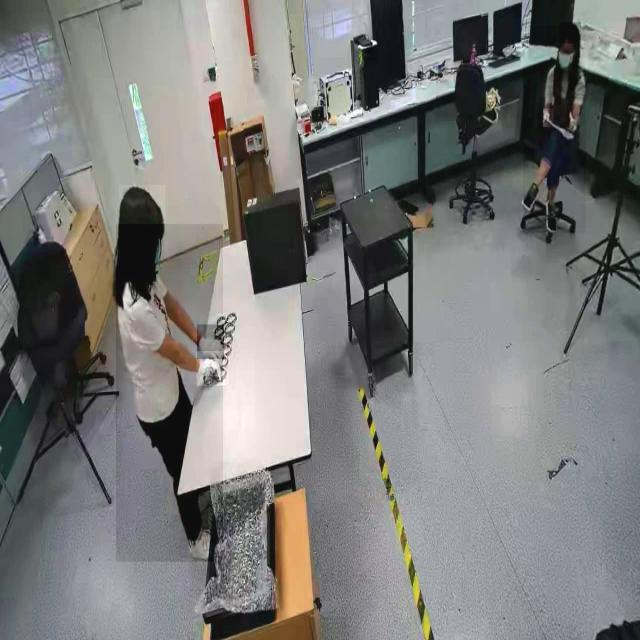face_mask: (556, 46, 580, 70)
hand_glove: (197, 351, 226, 386), (197, 325, 224, 359)
hand_noglove: (542, 108, 554, 128)
head_nohelmet: (118, 185, 166, 225), (559, 22, 581, 44)
person: (115, 224, 223, 563), (522, 26, 586, 234)
shoes: (543, 191, 562, 237), (520, 182, 540, 216)
